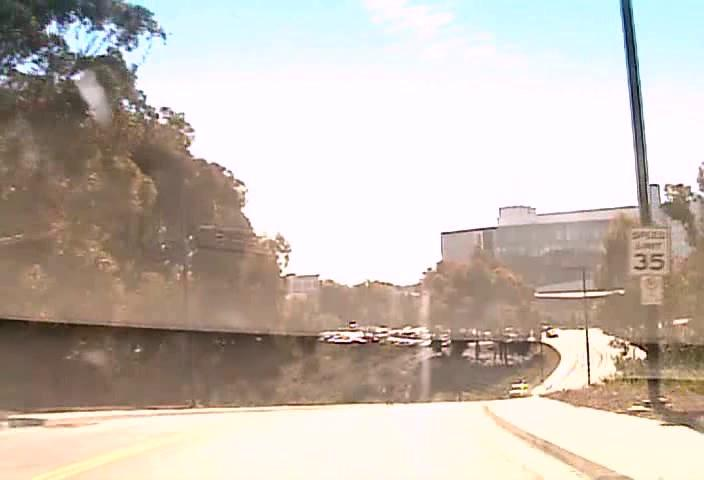speedLimit35: (628, 224, 671, 275)
